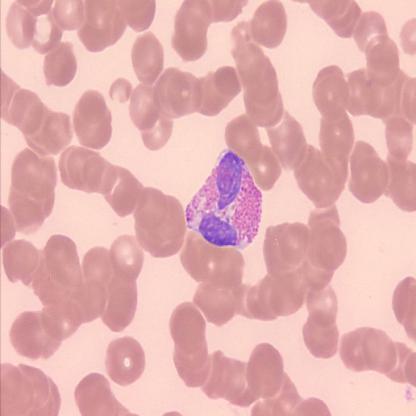Eosinophil: (183, 150, 264, 246)
